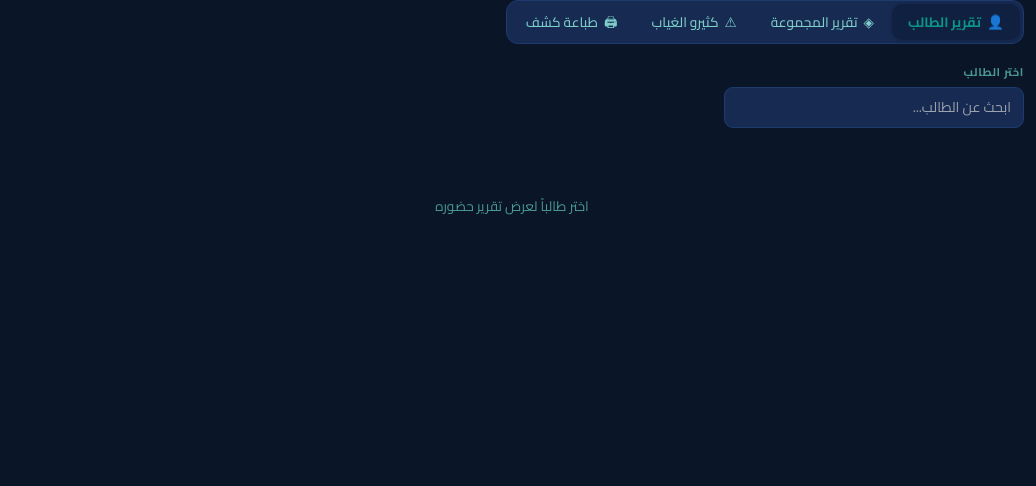
Test: AttendanceReports — "report by student" uses the searchable student selector › selecting a search result sets the same selectedStudent state the old <select> produced, driving the same report
This screenshot has width=1036, height=486.
In the dropdown: (874, 108) [724, 87, 1024, 128], type "أشرف محمد"
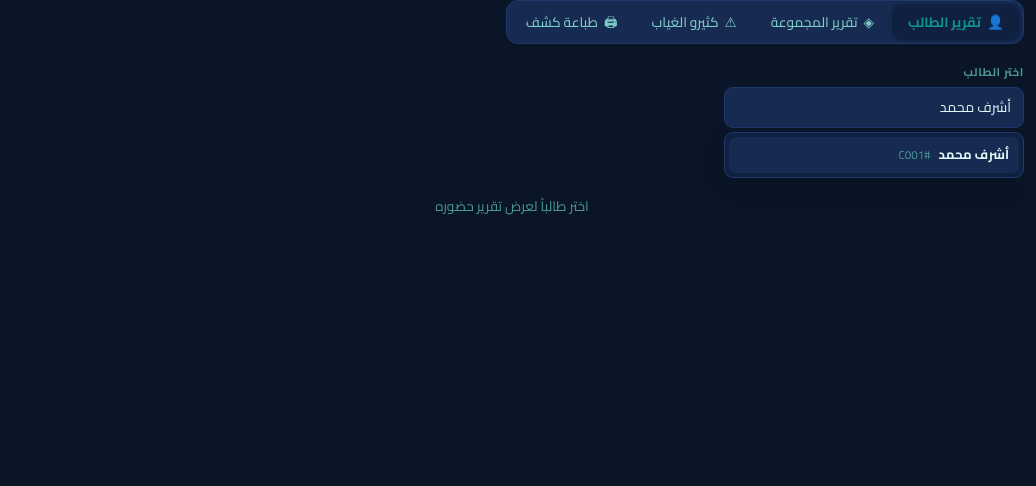
Click the option "أشرف محمد #C001": (974, 154) [729, 137, 1019, 173]
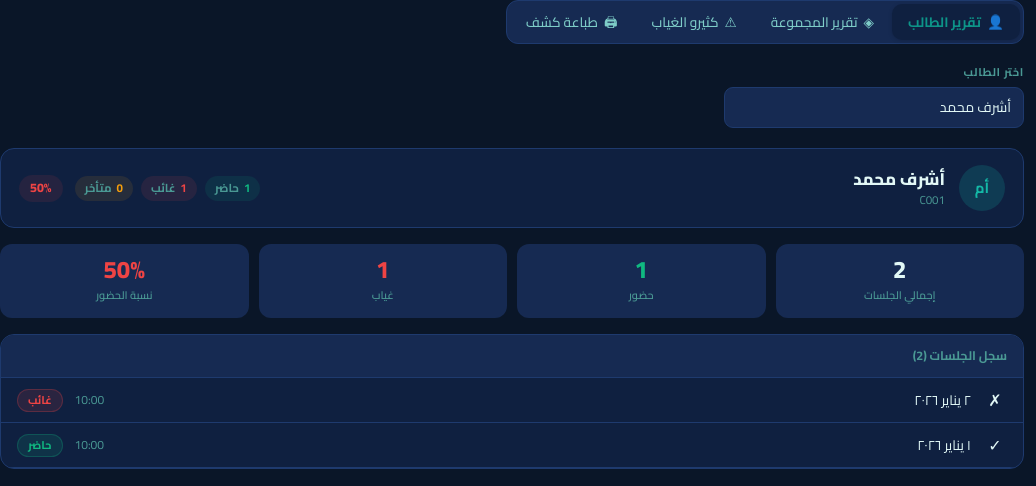
Result: the text "C001" is shown at [919, 189, 945, 211]
Result: the text "سجل الجلسات (2)" is shown at [1, 334, 1023, 378]
